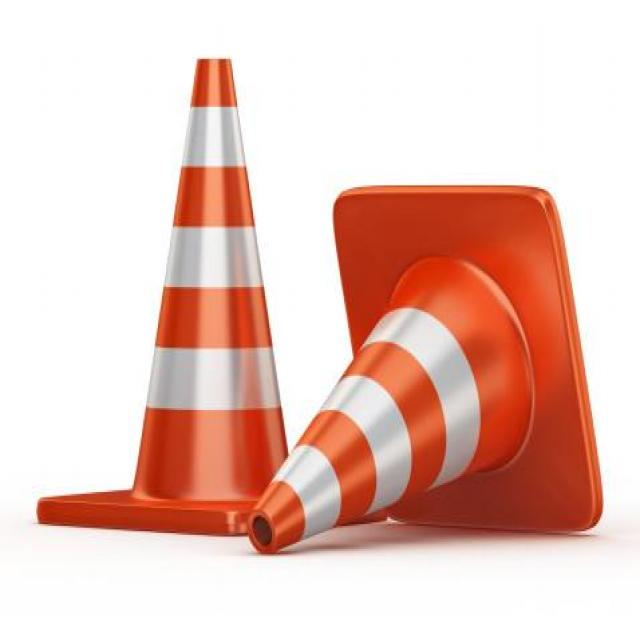Cone: (245, 187, 604, 560), (43, 57, 302, 540)
